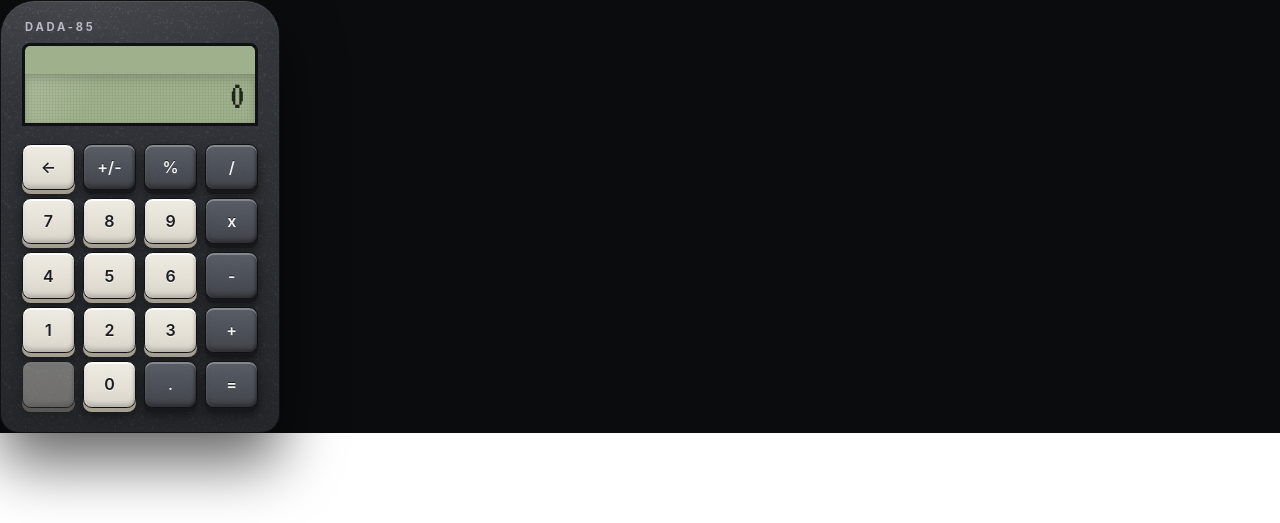
it: Calculator › shows the running operation after equals
The width and height of the screenshot is (1280, 523).
Click the button "7".
click(48, 221)  # box [22,198,75,244]
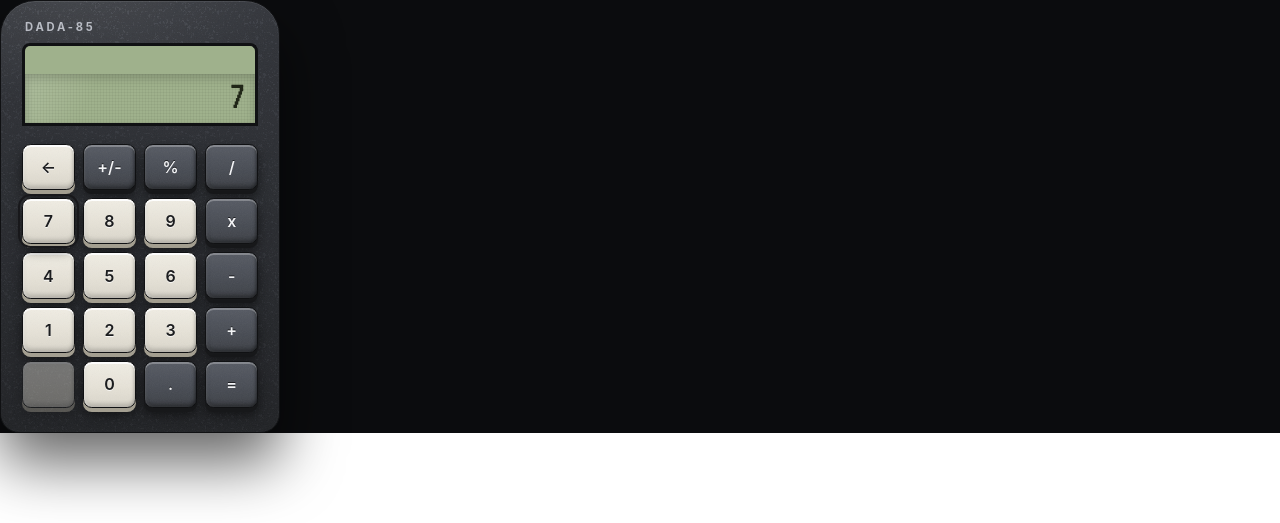
Click the button "+".
click(232, 330)  # box [205,307,258,353]
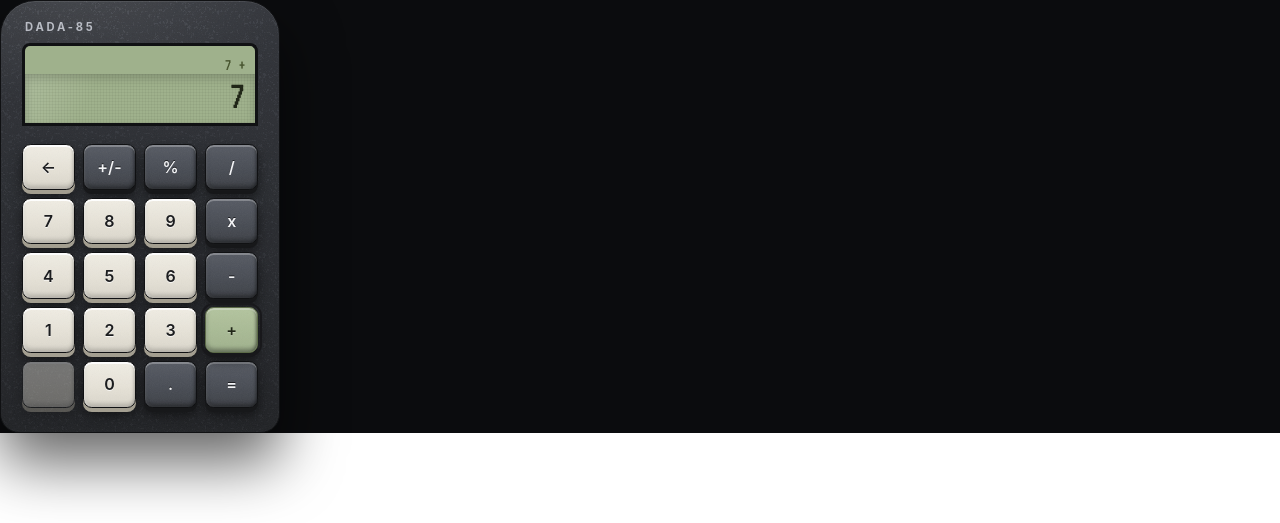
Click the button "3".
click(171, 330)  # box [144,307,197,353]
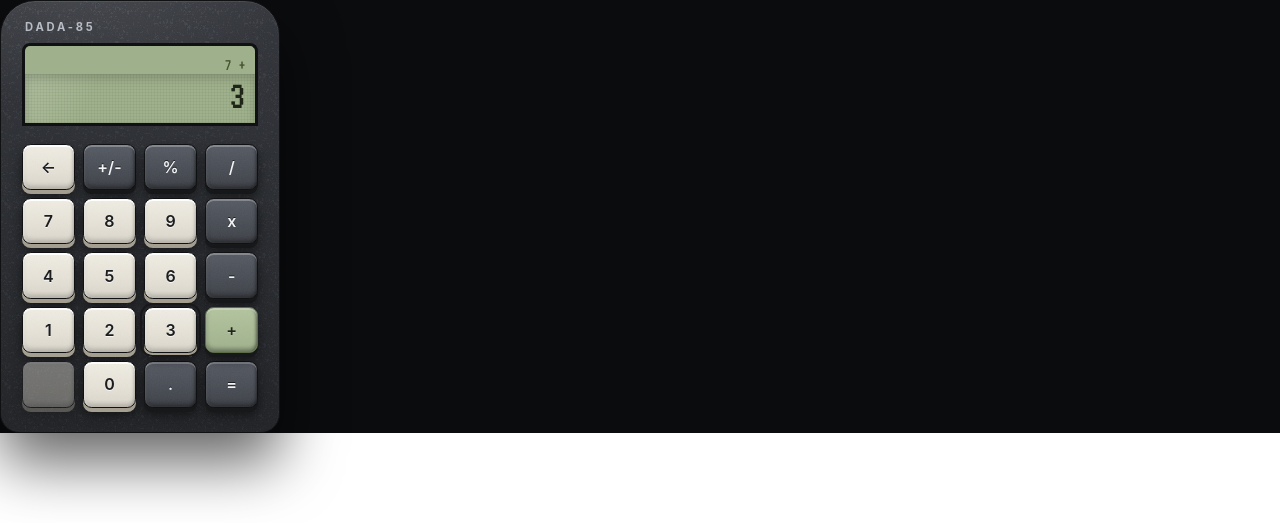
Click the button "=".
click(232, 384)  # box [205,361,258,408]
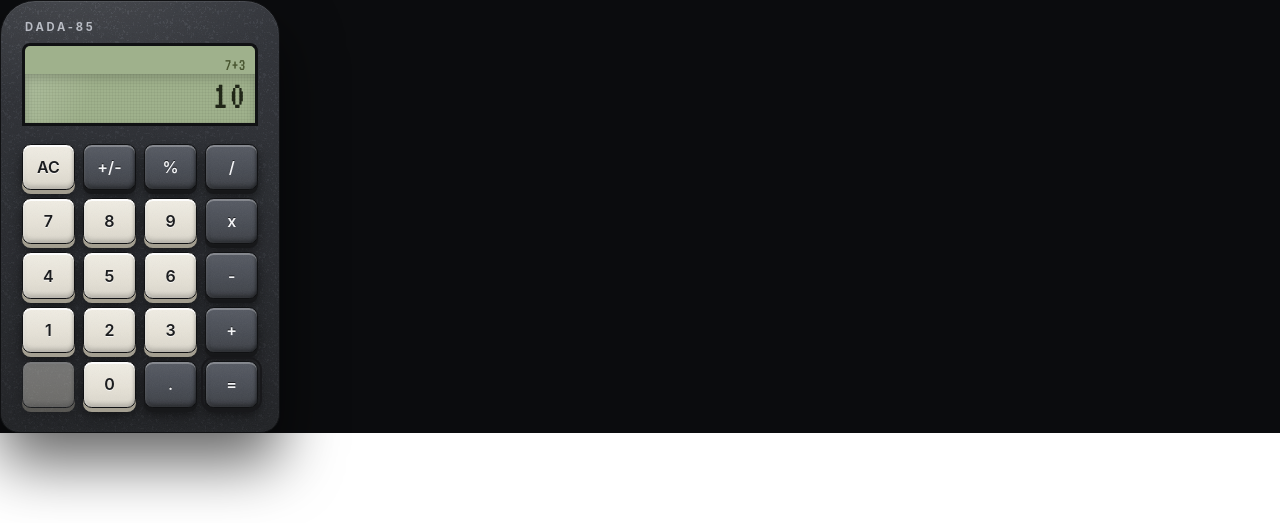
Check: the text "7+3" is shown, box [22,43,258,74]
